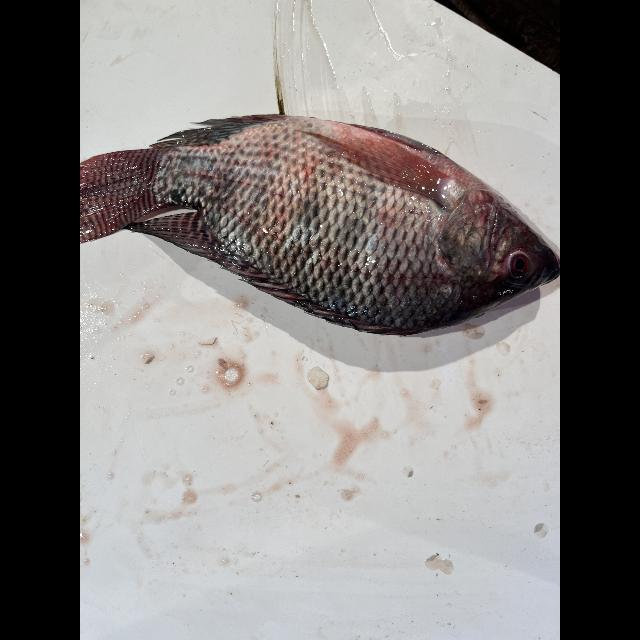Tilapia: (84, 114, 560, 336)
